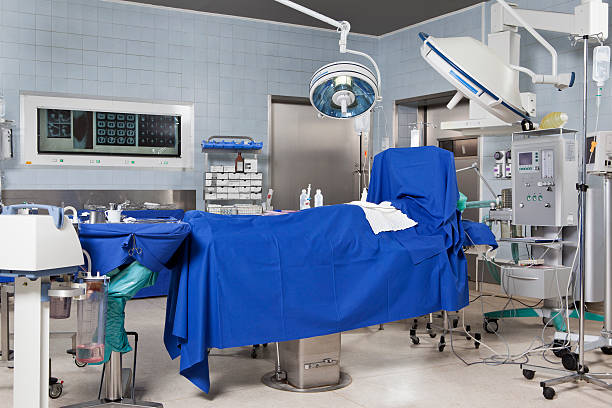bedside_monitor: (21, 94, 194, 167)
door_handle: (352, 167, 364, 202)
handle: (508, 273, 536, 282)
iv_pole: (570, 30, 603, 400)
medical_drawer: (499, 260, 566, 304)
operating_bed: (181, 145, 467, 395)
surgical_light: (416, 33, 545, 136), (310, 21, 387, 121)
utility_cart: (52, 219, 192, 408)
